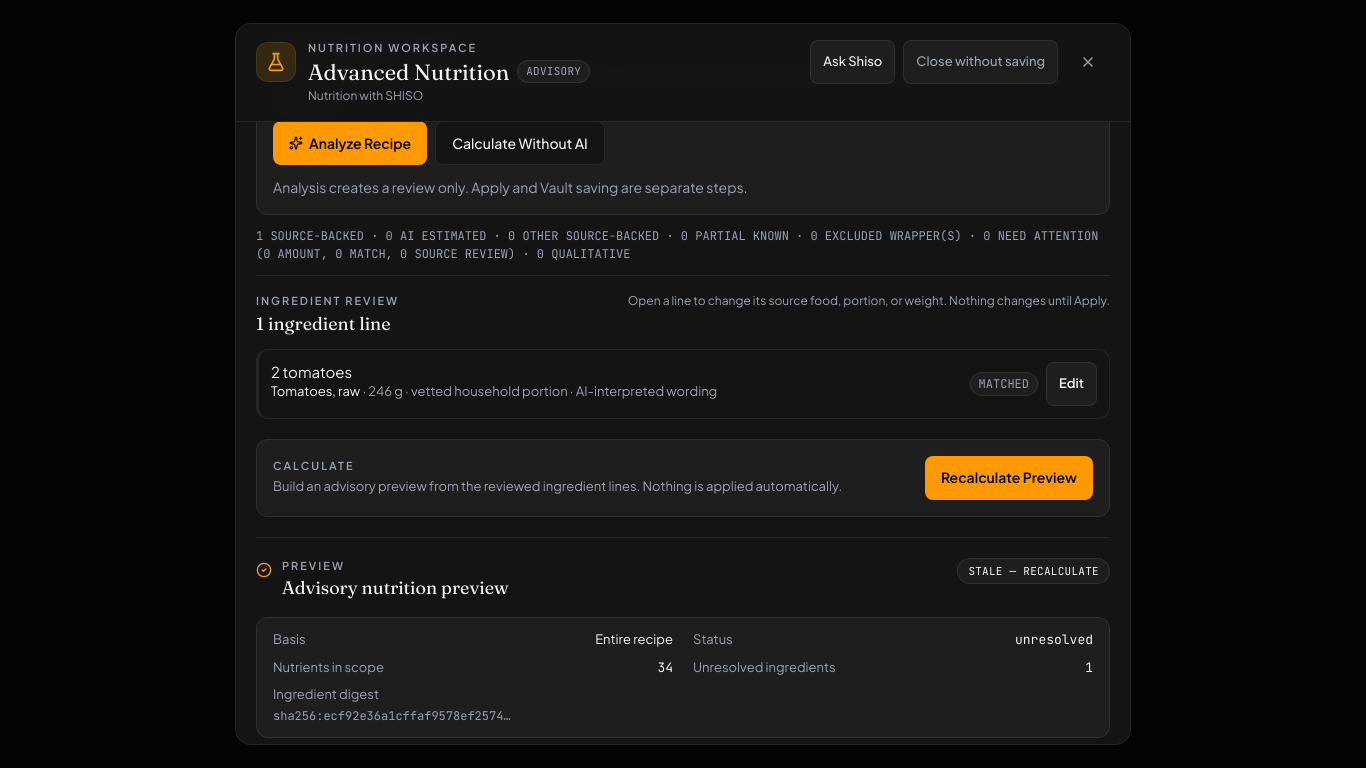
Test: phase 7 F-3 — Modal household grams are calculator/live verified › displays the exact verified grams and source, never the stored claim
The image size is (1366, 768).
(page scrolled)
Click the button "Edit" at [1072, 384], box [1046,362,1097,406]
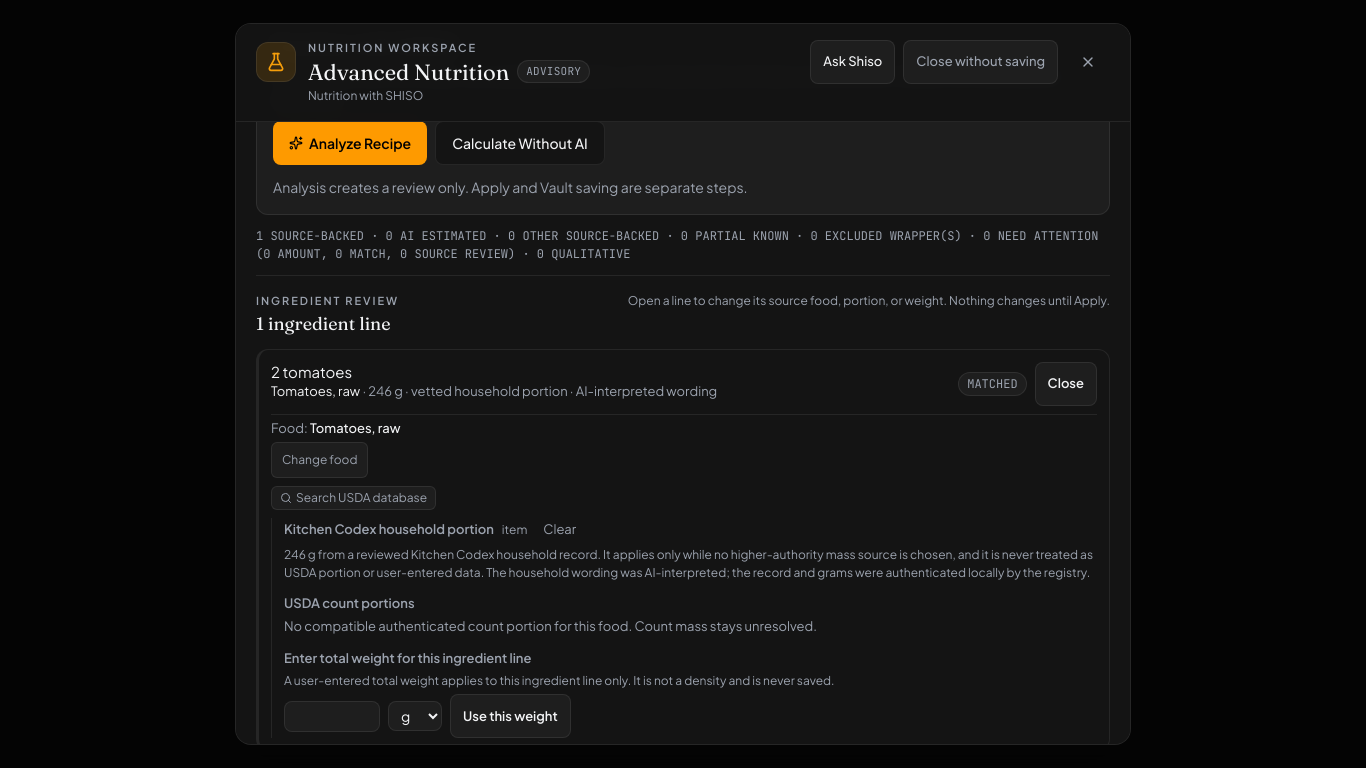
Expected: the element with test id "advanced-nutrition-household-portion" shows "246 g", [284,518,1097,582]
Expected: the element with test id "advanced-nutrition-household-portion" shows "Kitchen Codex household portion", [284,521,494,537]
